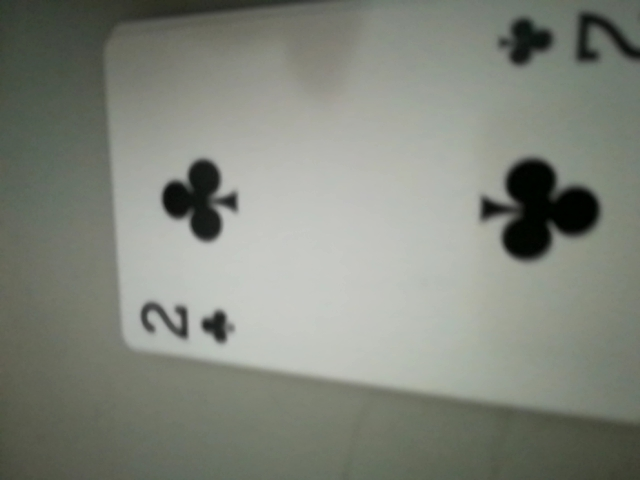mh 2: (496, 1, 640, 83), (131, 291, 245, 352)
